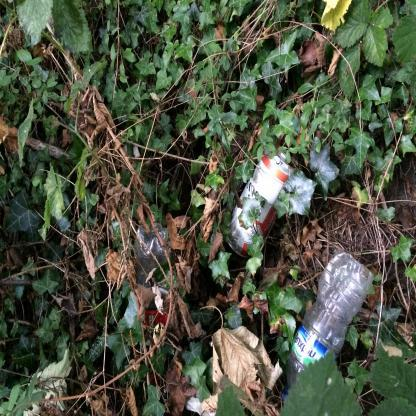metal: (226, 155, 292, 259)
plastik: (284, 252, 377, 404)
